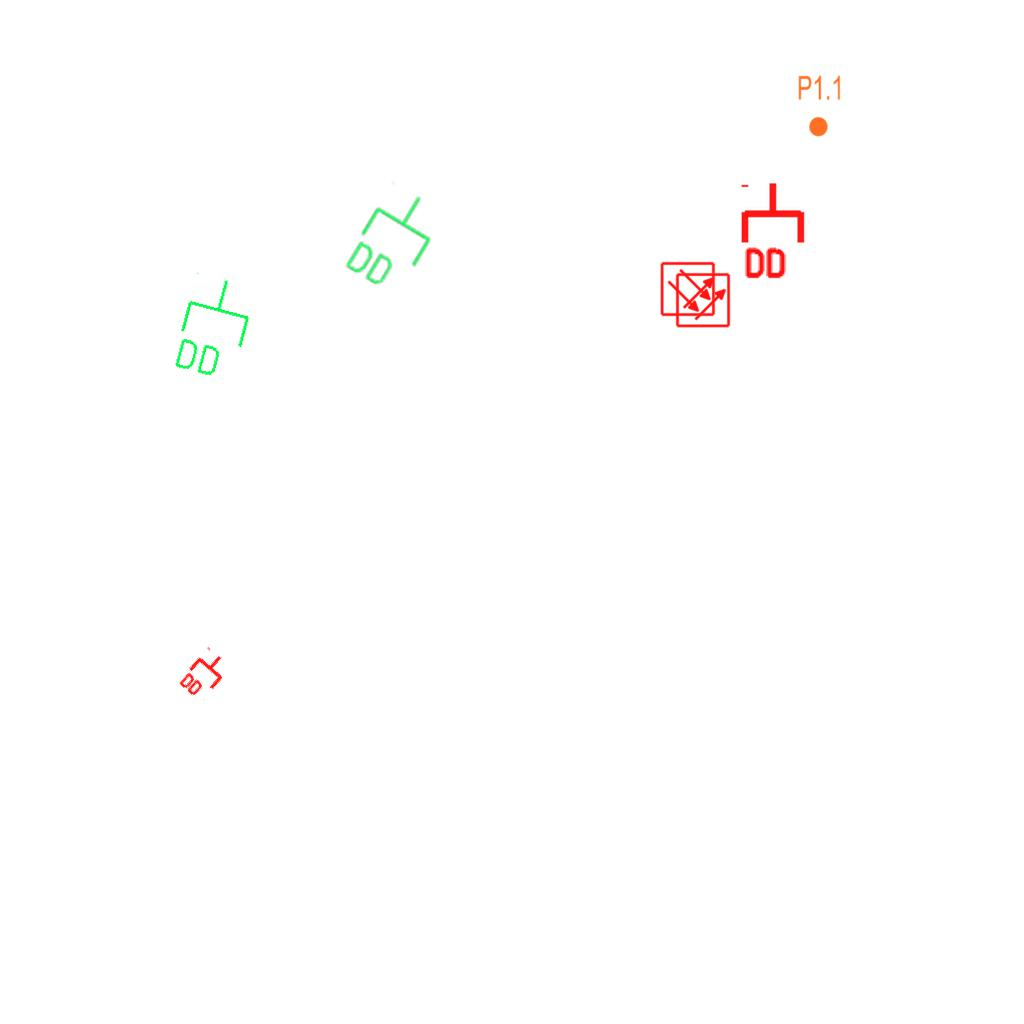Datenanschluss_zweifach: (337, 177, 450, 302), (166, 268, 261, 387), (740, 180, 809, 283), (175, 645, 235, 706)
Downlight_LED_Einbauleuchten_Flur: (797, 74, 843, 138)
RMO_Rauchmelder_optischer: (660, 261, 716, 317), (675, 272, 731, 328)
